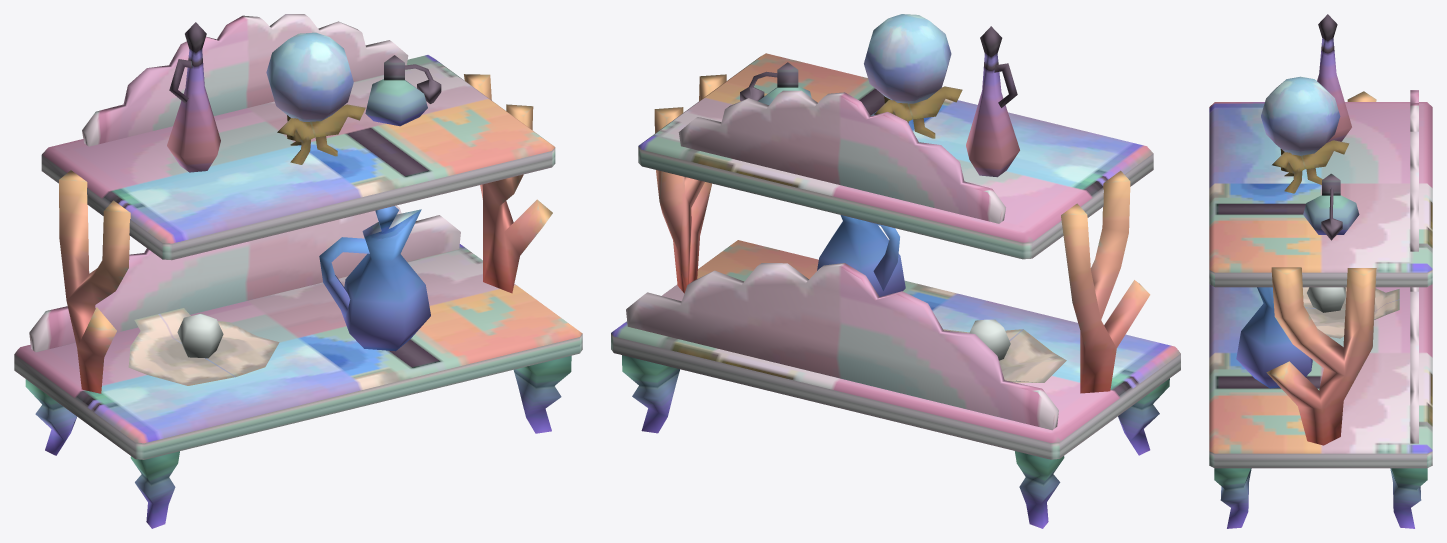
Rendered from int_mmd_shelf.dae.
3 views of the same model, side by side, from view 1: azimuth 30°, elevation 25°; view 2: azimuth 150°, elevation 25°; view 3: azimuth 270°, elevation 25° (orthographic). The views are drawn at different scales.
Parts seen in each view (by area): view 1: int_mmd_shelf; view 2: int_mmd_shelf; view 3: int_mmd_shelf.
Boxes of the visible parts, left/top/right/bottom form: int_mmd_shelf: left=14, top=14, right=582, bottom=528; int_mmd_shelf: left=611, top=14, right=1180, bottom=528; int_mmd_shelf: left=1209, top=14, right=1432, bottom=528.
Size of the model in its own units: 55.1 by 49.76 by 26.
1 material, 1 textured.
